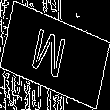M_S: (35, 24, 75, 86)
